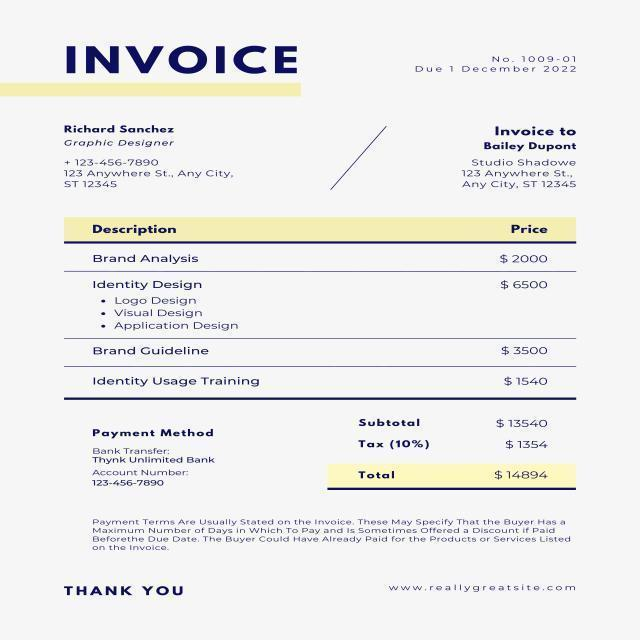ROI: (72, 213, 578, 399), (87, 513, 577, 556), (353, 411, 561, 487), (57, 119, 241, 192), (55, 35, 302, 79), (83, 420, 225, 494), (454, 120, 586, 194), (409, 47, 581, 77), (384, 578, 583, 598), (59, 576, 192, 602)
